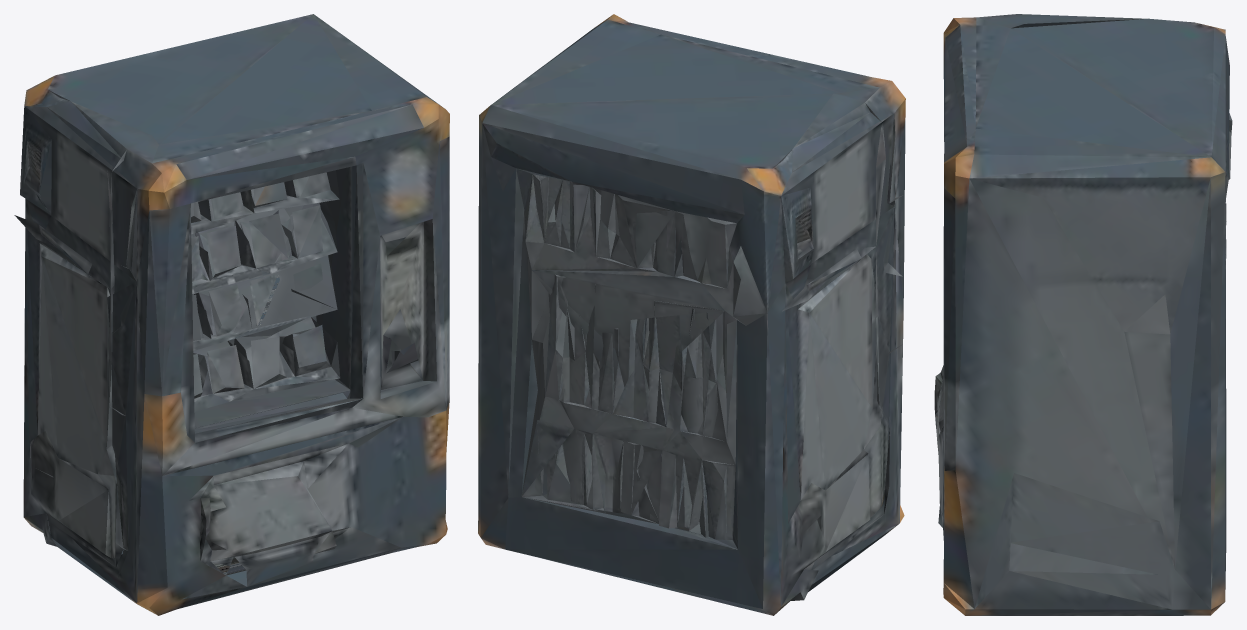
Rendered from vending.glb.
The picture shows the model from 3 angles, left to right: view 1: azimuth 30°, elevation 25°; view 2: azimuth 150°, elevation 25°; view 3: azimuth 270°, elevation 25°; orthographic projection. The views are drawn at different scales.
Visible parts, largest first — view 1: Mesh_0; view 2: Mesh_0; view 3: Mesh_0.
Part boxes in pixels (x1,y1,x2,y2): Mesh_0: (14,14,449,615); Mesh_0: (478,14,905,615); Mesh_0: (934,14,1232,615).
Size of the model in its own units: 1.51 by 2 by 1.16.
Materials: 1 (1 with a texture image).
